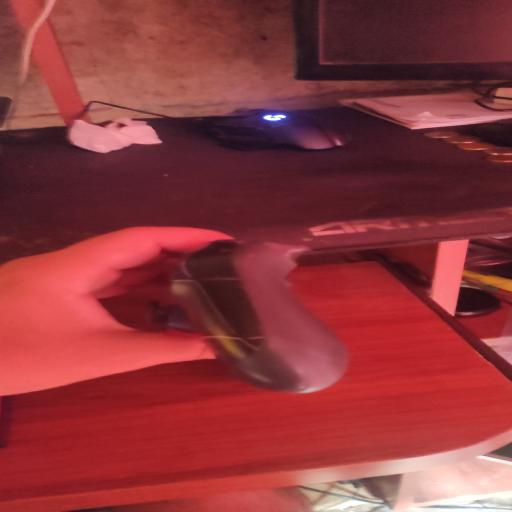ControlPlay4: (171, 240, 348, 393)
